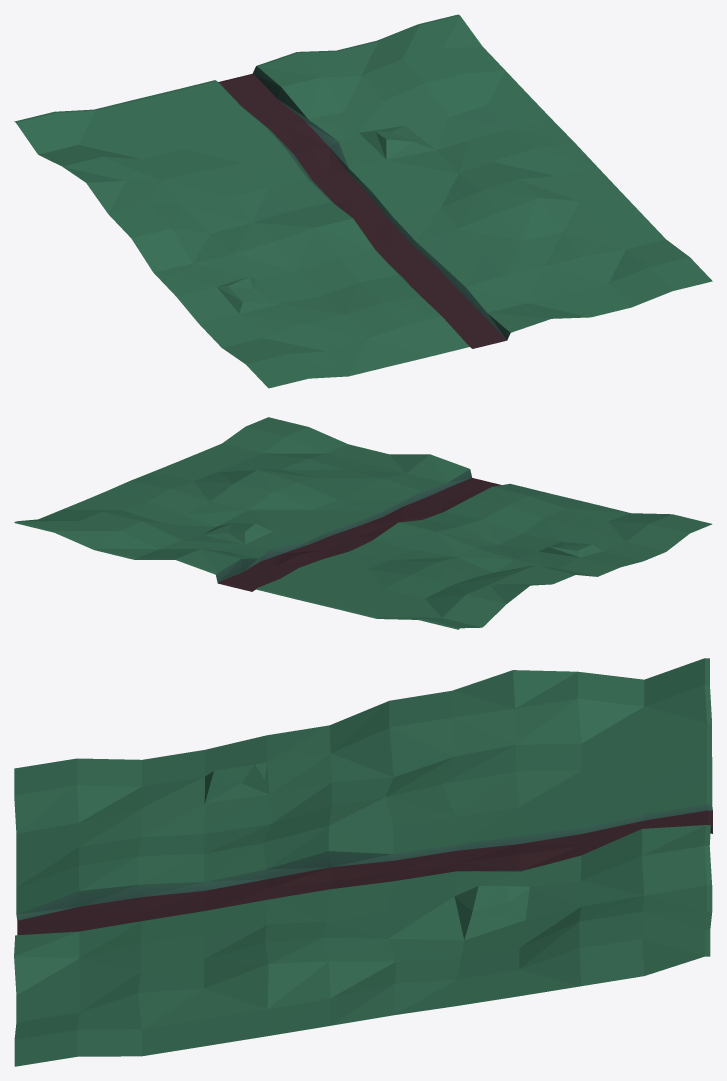
The model's file is groundPlane_10.glb.
3 renders of one model, top to bottom at view 1: azimuth 30°, elevation 25°; view 2: azimuth 150°, elevation 25°; view 3: azimuth 270°, elevation 25°, orthographic. The views are drawn at different scales.
Visible parts, largest first — view 1: groundPlane_10; view 2: groundPlane_10; view 3: groundPlane_10.
Boxes of the visible parts, x1,y1,x2,y2 form: groundPlane_10: (14,14,712,388); groundPlane_10: (14,417,712,629); groundPlane_10: (14,658,712,1066).
Size of the model in its own units: 100 by 19.96 by 99.66.
1 material, 1 textured.
